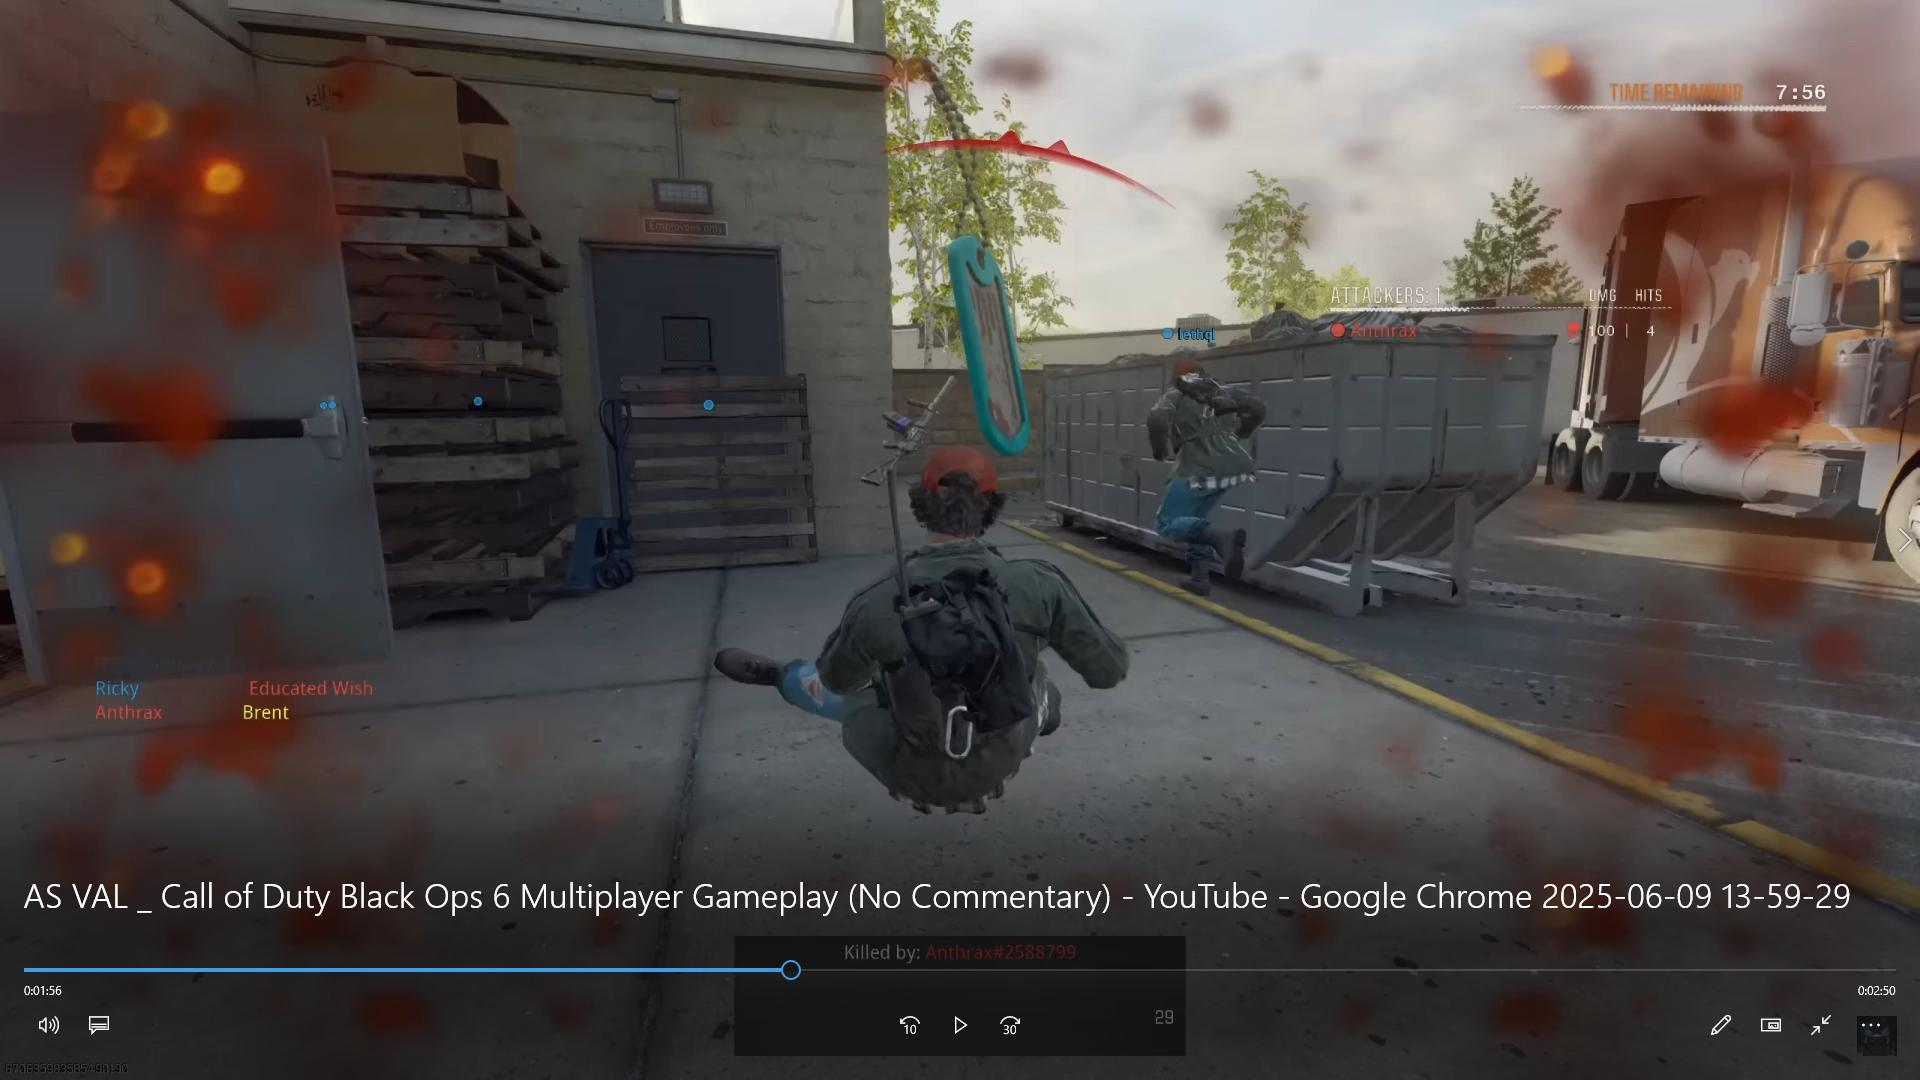Enemy: (1133, 367, 1247, 583)
